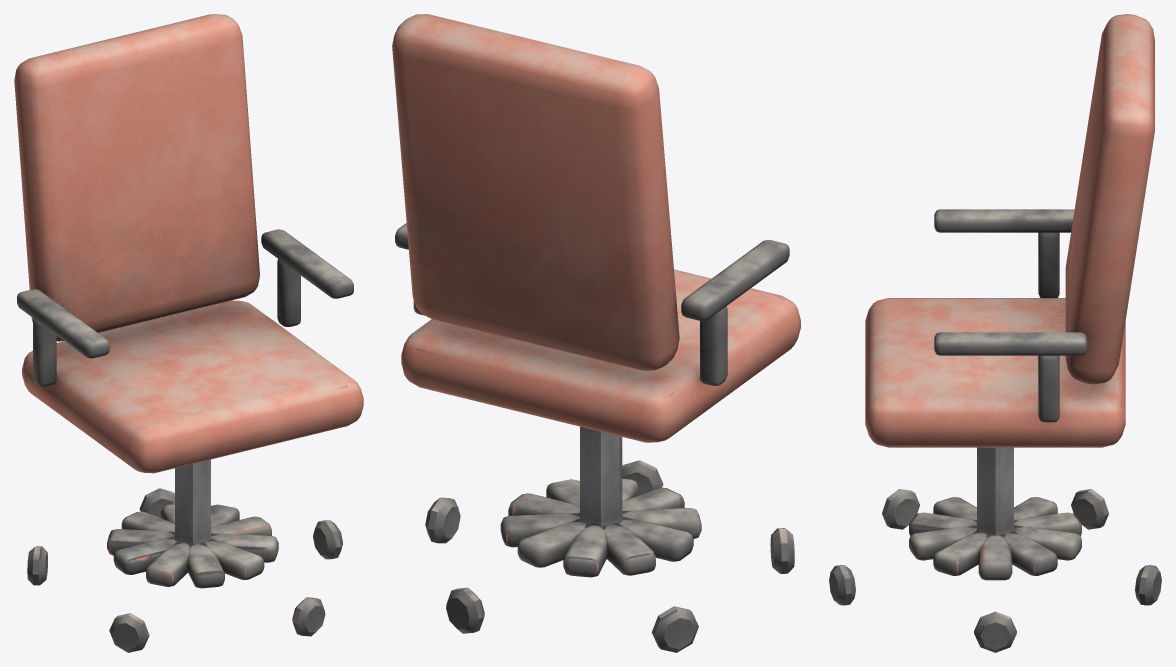
Rendered from office_chair.fbx.
3 views of the same model, side by side, from view 1: azimuth 30°, elevation 25°; view 2: azimuth 150°, elevation 25°; view 3: azimuth 270°, elevation 25° (orthographic). The views are drawn at different scales.
Parts seen in each view (by area): view 1: Spin, Body; view 2: Spin, Body; view 3: Spin, Body.
Boxes of the visible parts, x1,y1,x2,y2 form: Spin: (14,14,363,473); Body: (27,459,342,652); Spin: (392,14,800,442); Body: (425,426,794,652); Spin: (865,14,1154,447); Body: (829,447,1161,652).
Size of the model in its own units: 2.15 by 3.76 by 2.17.
1 material, 1 textured.
